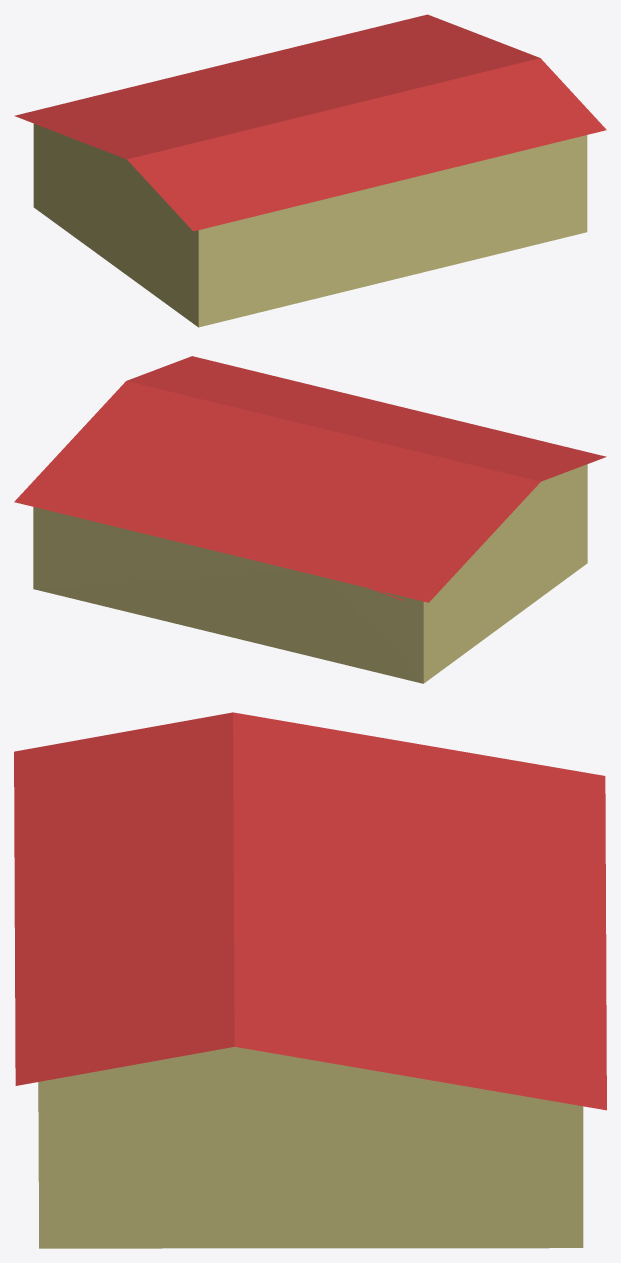
The picture shows the model from 3 angles, top to bottom: view 1: azimuth 30°, elevation 25°; view 2: azimuth 150°, elevation 25°; view 3: azimuth 270°, elevation 25°; orthographic projection. The views are drawn at different scales.
Size of the model in its own units: 33.56 by 25.11 by 9.88.
